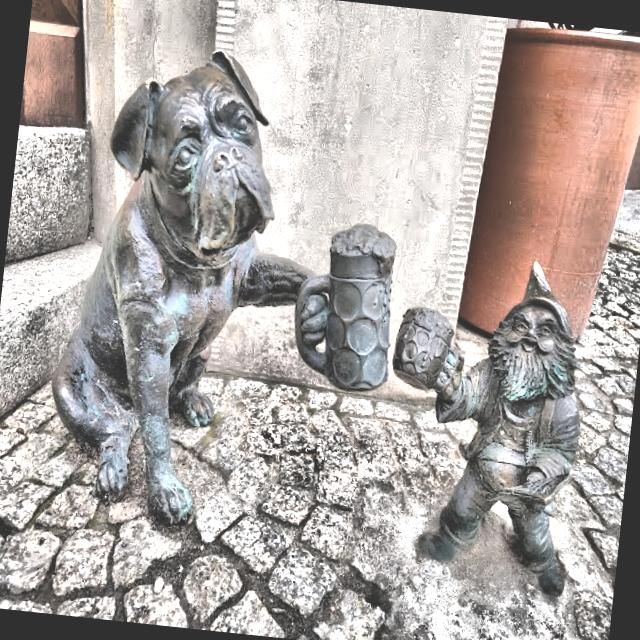Piwozlopek_ i_Piesel_Piwosz: (52, 51, 393, 522), (392, 262, 580, 596)
